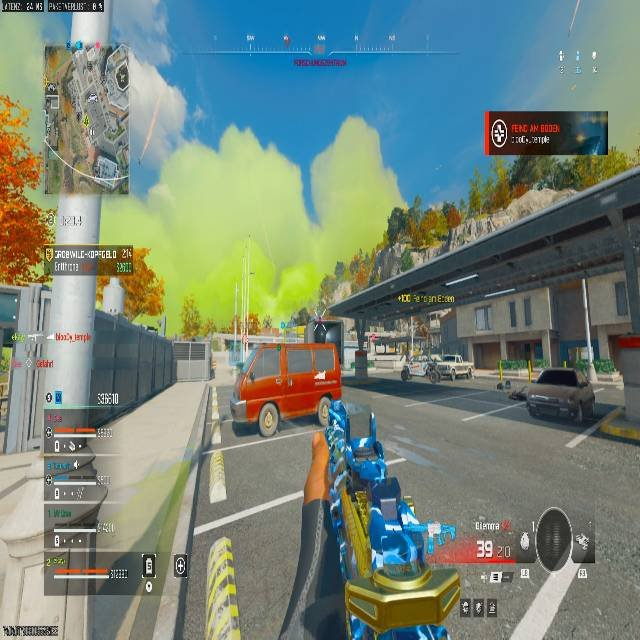player: (426, 360, 439, 382), (400, 364, 411, 381)
